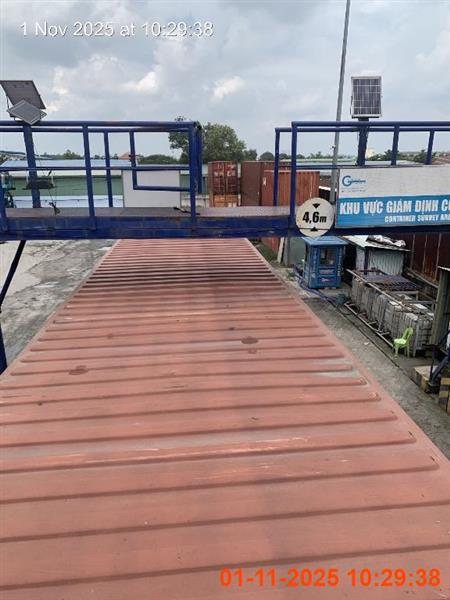scratch: (391, 327, 413, 358)
